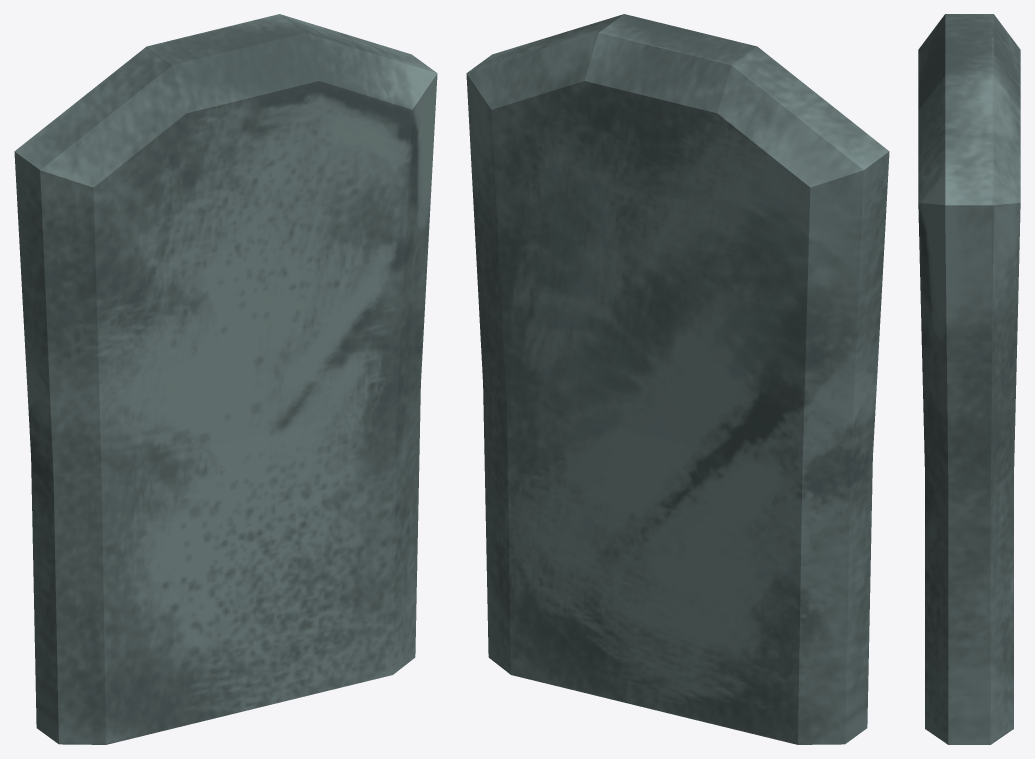
Rendered from tombstone_03.fbx.
3 renders of one model, left to right at view 1: azimuth 30°, elevation 25°; view 2: azimuth 150°, elevation 25°; view 3: azimuth 270°, elevation 25°, orthographic. The views are drawn at different scales.
Visible parts, largest first — view 1: Tombstone_03; view 2: Tombstone_03; view 3: Tombstone_03.
Part boxes in pixels (box(x1,y1,x2,y2)): Tombstone_03: box(14, 14, 437, 744); Tombstone_03: box(466, 14, 889, 744); Tombstone_03: box(918, 14, 1020, 744).
Size of the model in its own units: 3.52 by 5.53 by 0.83.
1 material, 1 textured.
